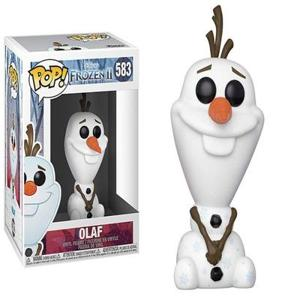olaf: (183, 3, 268, 289)
